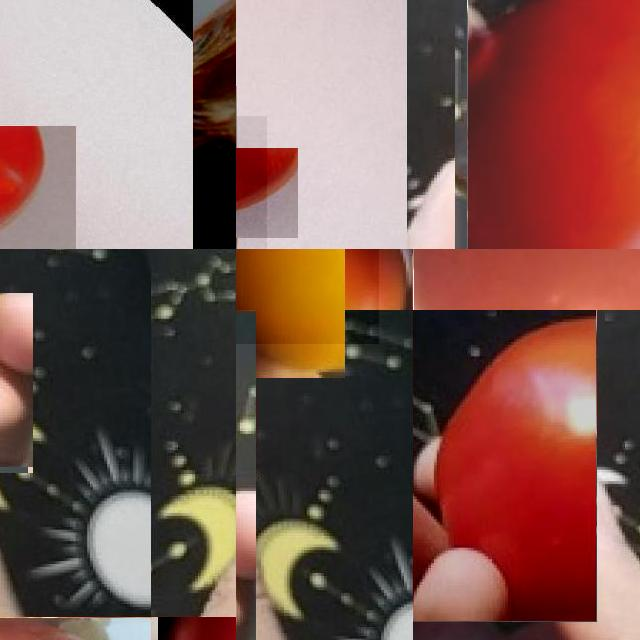0: (467, 0, 640, 249)
1: (236, 116, 267, 249)
Fresh Tomato: (413, 310, 596, 621), (413, 249, 640, 310), (0, 125, 76, 249)
